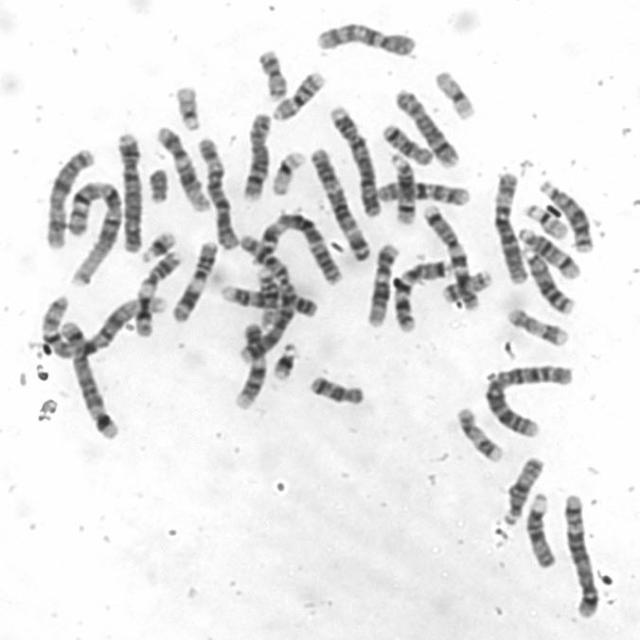A1: (37, 290, 166, 361), (63, 175, 125, 288)
A2: (234, 234, 300, 366), (481, 357, 577, 439)
A3: (307, 146, 373, 262), (250, 208, 345, 286)
B4: (327, 102, 382, 219), (112, 127, 146, 254)
B5: (55, 316, 121, 441), (561, 490, 601, 620)
C10: (312, 18, 420, 59), (373, 177, 471, 208)
C11: (130, 248, 184, 338), (168, 238, 218, 324)
C12: (151, 122, 214, 215), (362, 240, 402, 328)
C6: (194, 134, 241, 252), (490, 168, 530, 286)
C7: (417, 201, 480, 313), (389, 256, 454, 334)
C8: (390, 84, 460, 169), (238, 109, 274, 203)
C9: (217, 279, 321, 319), (231, 320, 268, 411)
D13: (535, 174, 596, 254), (520, 245, 578, 317)
D14: (514, 222, 583, 281), (386, 150, 418, 226)
D15: (499, 452, 547, 528), (520, 488, 558, 570)
E16: (268, 65, 328, 122), (255, 267, 283, 333)
E17: (452, 402, 506, 463), (503, 303, 571, 347)
E18: (377, 120, 435, 167), (306, 371, 366, 406)
F19: (431, 66, 477, 121), (268, 146, 307, 196)
F20: (252, 44, 290, 101), (439, 266, 494, 305)
G21: (136, 226, 178, 264), (269, 340, 299, 381)
G22: (521, 200, 571, 242), (168, 78, 204, 133)
X: (40, 144, 96, 251)
Y: (146, 164, 171, 204)
